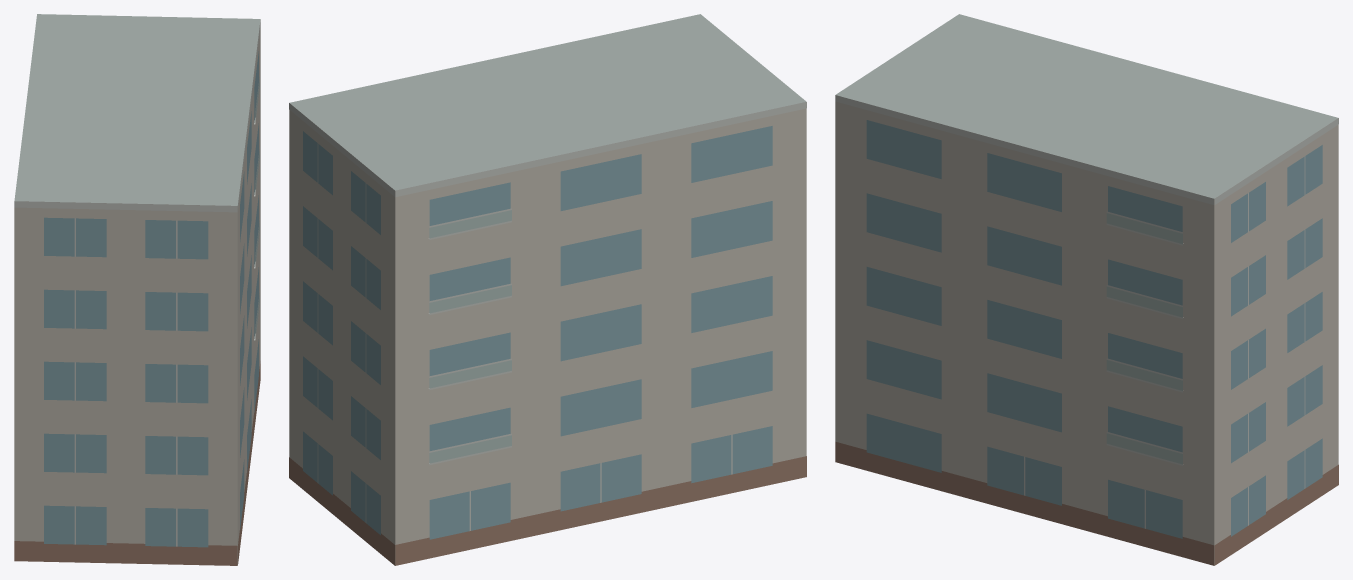
The model's file is survey-upis-32893487.glb.
The picture shows the model from 3 angles, left to right: view 1: azimuth 30°, elevation 25°; view 2: azimuth 150°, elevation 25°; view 3: azimuth 270°, elevation 25°; orthographic projection. The views are drawn at different scales.
Visible parts, largest first — view 1: survey-upis-32893487.tmp; view 2: survey-upis-32893487.tmp; view 3: survey-upis-32893487.tmp.
Part boxes in pixels (x1,y1,x2,y2): survey-upis-32893487.tmp: [14, 14, 260, 565]; survey-upis-32893487.tmp: [289, 14, 806, 565]; survey-upis-32893487.tmp: [835, 14, 1338, 565].
Bounding box in the file's own units: 14.8 × 13.7 × 17.04.
